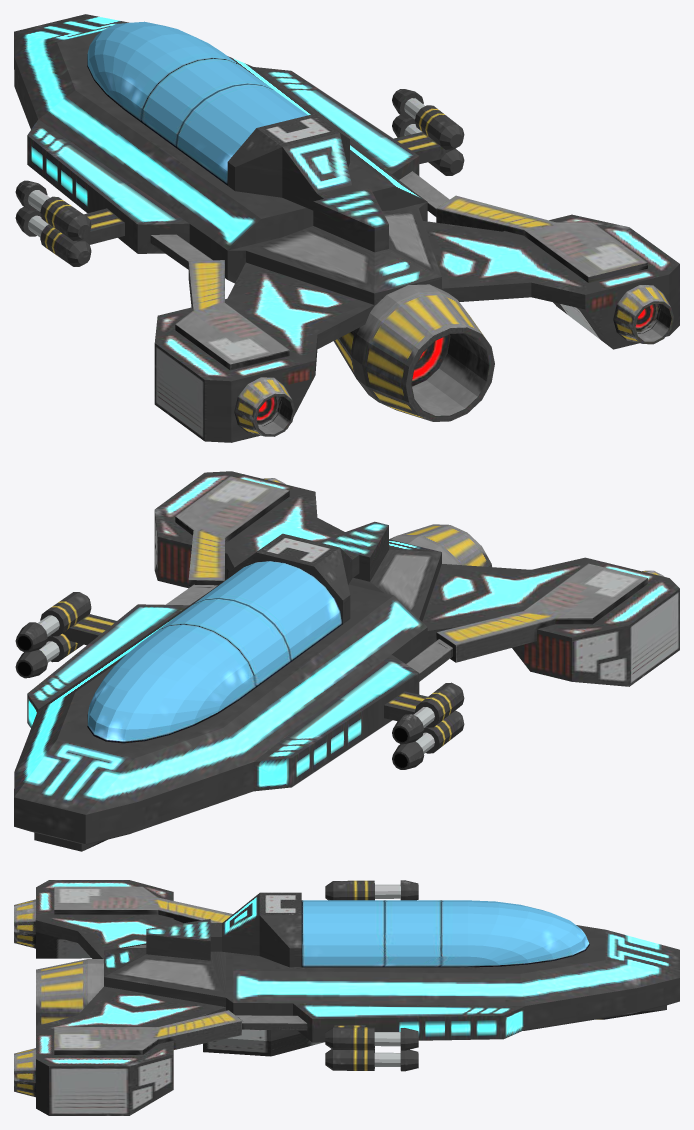
The picture shows the model from 3 angles, top to bottom: view 1: azimuth 30°, elevation 25°; view 2: azimuth 150°, elevation 25°; view 3: azimuth 270°, elevation 25°; orthographic projection. The views are drawn at different scales.
Parts seen in each view (by area): view 1: Base_low, CockPit_low, JetBaseLeft_low, JetBaseRight_low, MainJet_low, BaseBack_low, CockPitBack_low, BaseLeft_low, ConnectRight_low, ConnectLeft_low, BaseRight_low, JetLeft_low (+6 smaller); view 2: Base_low, CockPit_low, JetBaseLeft_low, BaseLeft_low, ConnectLeft_low, JetBaseRight_low, ConnectRight_low, BaseBack_low, BaseRight_low, CockPitBack_low, MainJet_low, GunRightTopBack_low (+8 smaller); view 3: Base_low, CockPit_low, JetBaseRight_low, BaseBack_low, BaseRight_low, JetBaseLeft_low, ConnectRight_low, CockPitBack_low, ConnectLeft_low, MainJet_low, Bottom_low, GunRightTopBack_low (+9 smaller).
Boxes of the visible parts, left/top/right/bottom form: Base_low: left=14, top=14, right=427, bottom=283; CockPit_low: left=87, top=21, right=307, bottom=185; JetBaseLeft_low: left=154, top=262, right=374, bottom=442; JetBaseRight_low: left=423, top=214, right=679, bottom=349; MainJet_low: left=352, top=284, right=494, bottom=421; BaseBack_low: left=246, top=187, right=441, bottom=305; CockPitBack_low: left=227, top=114, right=358, bottom=210; BaseLeft_low: left=27, top=119, right=189, bottom=253; ConnectRight_low: left=399, top=171, right=647, bottom=282; ConnectLeft_low: left=150, top=234, right=289, bottom=370; BaseRight_low: left=254, top=67, right=419, bottom=179; JetLeft_low: left=234, top=377, right=295, bottom=436; Base_low: left=14, top=578, right=427, bottom=844; CockPit_low: left=87, top=560, right=342, bottom=743; JetBaseLeft_low: left=422, top=557, right=679, bottom=686; BaseLeft_low: left=253, top=654, right=419, bottom=791; ConnectLeft_low: left=406, top=563, right=647, bottom=681; JetBaseRight_low: left=154, top=471, right=344, bottom=588; ConnectRight_low: left=165, top=476, right=289, bottom=605; BaseBack_low: left=318, top=521, right=441, bottom=621; BaseRight_low: left=27, top=604, right=188, bottom=727; CockPitBack_low: left=228, top=533, right=359, bottom=623; MainJet_low: left=389, top=524, right=491, bottom=566; GunRightTopBack_low: left=40, top=592, right=91, bottom=636; Base_low: left=226, top=925, right=679, bottom=1030; CockPit_low: left=301, top=900, right=589, bottom=967; JetBaseRight_low: left=36, top=986, right=225, bottom=1115; BaseBack_low: left=104, top=919, right=225, bottom=1006; BaseRight_low: left=293, top=1003, right=525, bottom=1042; JetBaseLeft_low: left=36, top=880, right=183, bottom=958; ConnectRight_low: left=54, top=1010, right=307, bottom=1054; CockPitBack_low: left=210, top=892, right=301, bottom=967; ConnectLeft_low: left=54, top=886, right=232, bottom=922; MainJet_low: left=36, top=959, right=103, bottom=1025; Bottom_low: left=203, top=1005, right=666, bottom=1056; GunRightTopBack_low: left=325, top=1027, right=374, bottom=1050.
Size of the model in its own units: 1.32 by 0.5102 by 2.
1 material, 1 textured.
